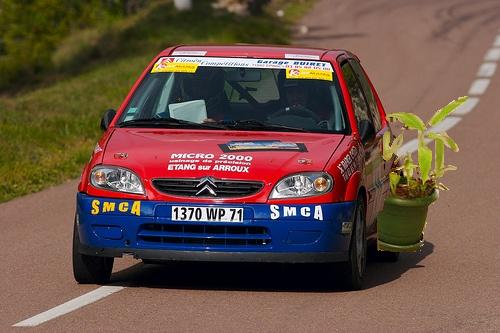tampered: (179, 97, 469, 252)
